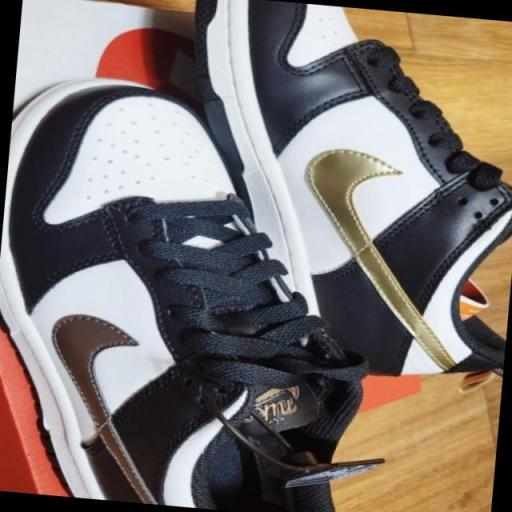Nike: (290, 143, 453, 336)
